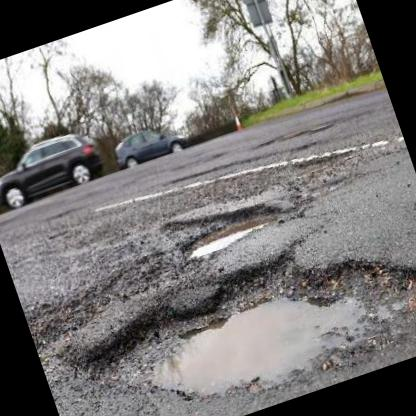pothole: (70, 201, 416, 416), (160, 182, 290, 268), (22, 286, 104, 356), (256, 114, 335, 152), (294, 141, 354, 175)
